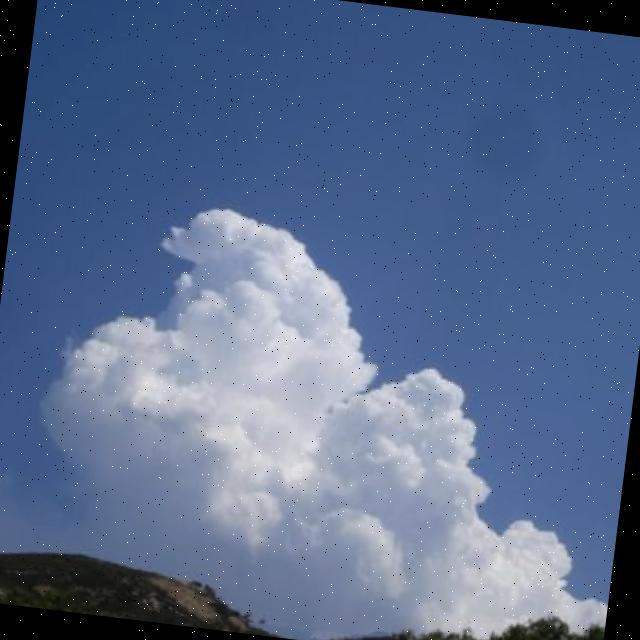Cu: (1, 120, 640, 612)
